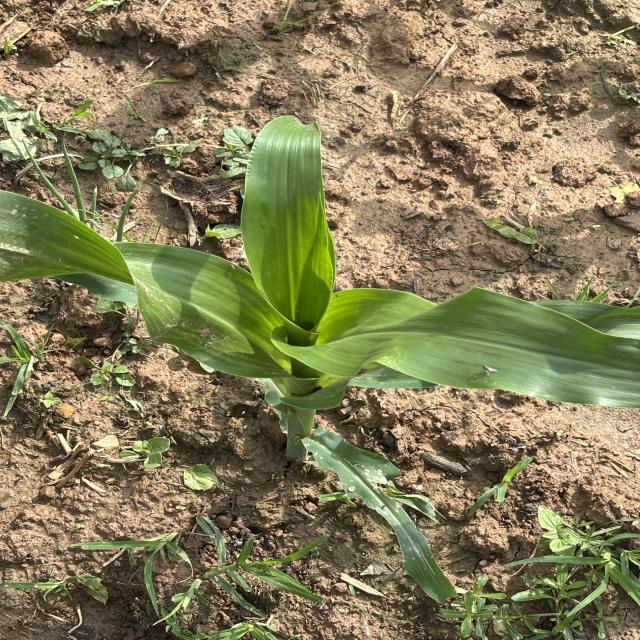maize: (78, 219, 640, 481), (248, 124, 332, 260)
weed: (97, 519, 640, 640), (0, 92, 233, 183), (7, 335, 118, 419)
